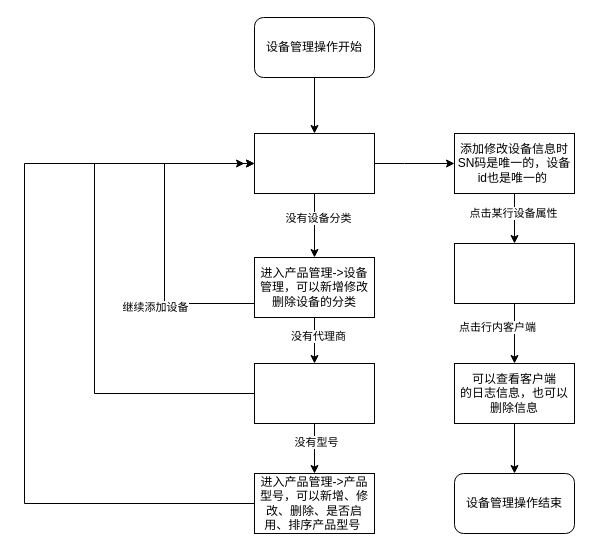
Some shapes in this 592 by 551 pixel diagram are drawn without their labels. Each missing label, with the centre of its shape:
可以添加产品 的相关参数: point 514,273
跳转至设备管理 可以新增修改删除 导入导出设备信息: point 314,163
进入产品管理->生产厂商，可以新增修改删除是否启用厂商: point 314,393
